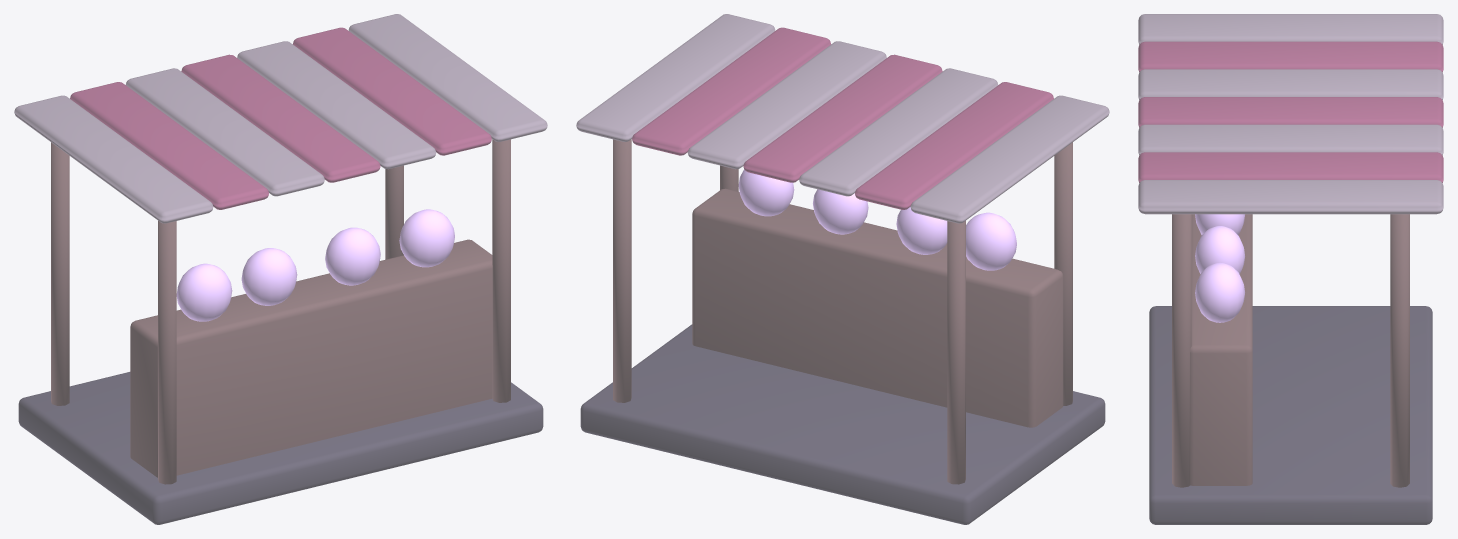
The model's file is castle_detail_market_stall_cursed.glb.
3 renders of one model, left to right at view 1: azimuth 30°, elevation 25°; view 2: azimuth 150°, elevation 25°; view 3: azimuth 270°, elevation 25°, orthographic.
Parts seen in each view (by area): view 1: castle_detail_market_stall_cursed_surface; view 2: castle_detail_market_stall_cursed_surface; view 3: castle_detail_market_stall_cursed_surface.
Part boxes in pixels (x1=…): castle_detail_market_stall_cursed_surface: x1=14, y1=14, x2=547, y2=524; castle_detail_market_stall_cursed_surface: x1=576, y1=14, x2=1109, y2=524; castle_detail_market_stall_cursed_surface: x1=1138, y1=14, x2=1443, y2=524.
Size of the model in its own units: 4.2 by 3.26 by 2.8.
